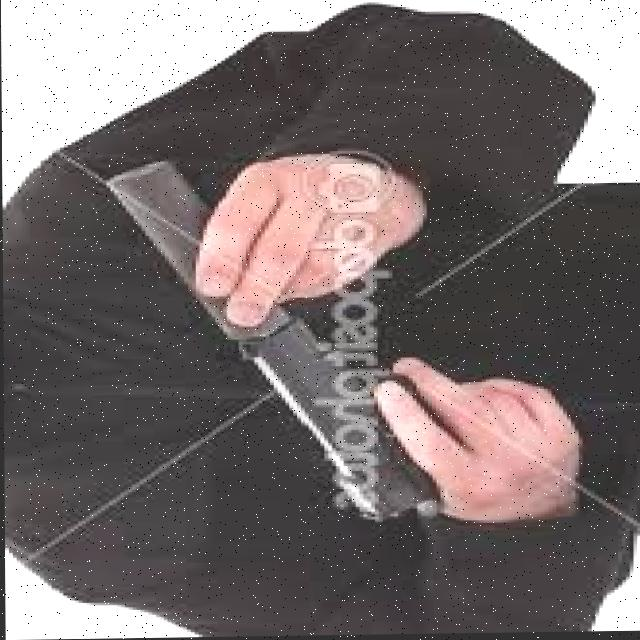pistol: (106, 155, 429, 523)
